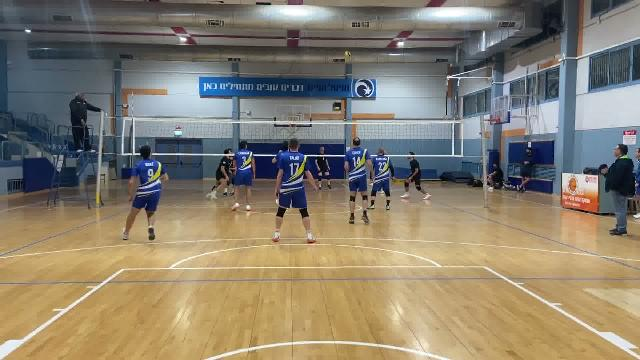ball: (341, 48, 355, 61)
